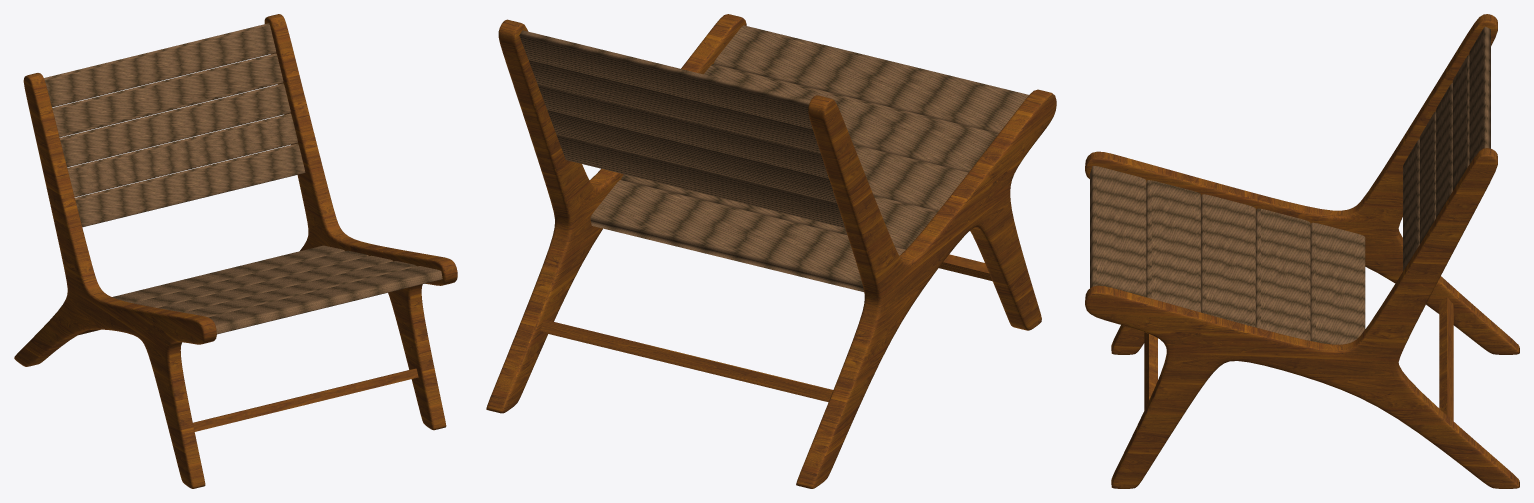
File: Lily-Side-Chair.glb
3 views of the same model, side by side, from view 1: azimuth 30°, elevation 25°; view 2: azimuth 150°, elevation 25°; view 3: azimuth 270°, elevation 25° (orthographic). The views are drawn at different scales.
Visible parts, largest first — view 1: Cube.002, Plane.001, Cube.001, Cube.003; view 2: Plane.001, Cube.001, Cube.002, Cube.004, Cube.003; view 3: Plane.001, Cube.001, Cube.002, Cube.004, Cube.003.
Part boxes in pixels (left/top/right/bottom): Cube.002: left=44, top=23, right=305, bottom=227; Plane.001: left=14, top=14, right=457, bottom=488; Cube.001: left=112, top=245, right=442, bottom=334; Cube.003: left=193, top=368, right=418, bottom=431; Plane.001: left=486, top=14, right=1056, bottom=488; Cube.001: left=590, top=25, right=1028, bottom=291; Cube.002: left=519, top=30, right=844, bottom=227; Cube.004: left=540, top=319, right=833, bottom=402; Cube.003: left=939, top=254, right=992, bottom=281; Plane.001: left=1085, top=14, right=1519, bottom=488; Cube.001: left=1090, top=166, right=1365, bottom=344; Cube.002: left=1403, top=26, right=1490, bottom=270; Cube.004: left=1439, top=297, right=1453, bottom=420; Cube.003: left=1144, top=332, right=1157, bottom=410.
Size of the model in its own units: 0.5423 by 0.5957 by 0.702.
2 materials, 2 textured.
